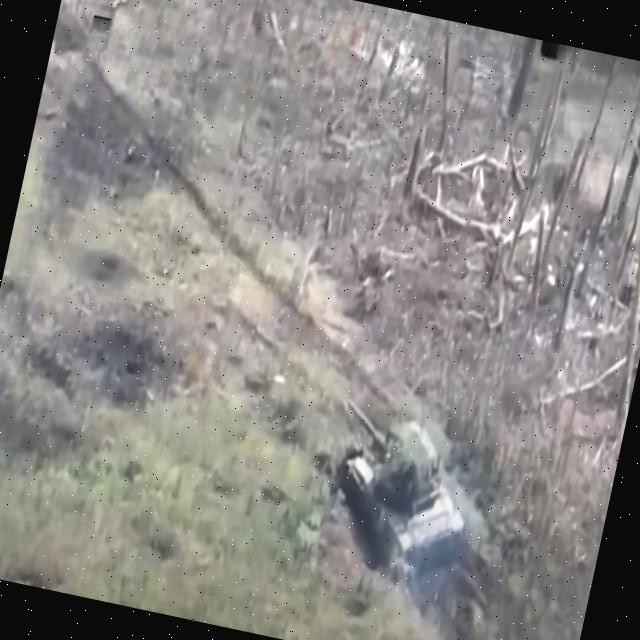MBT: (311, 400, 487, 593)
